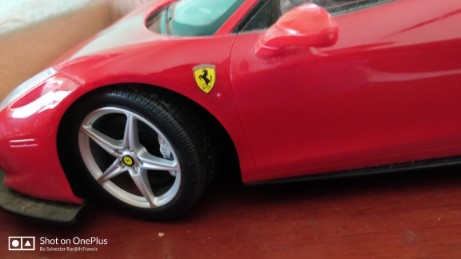unaligned_wheel: (64, 71, 242, 220)
